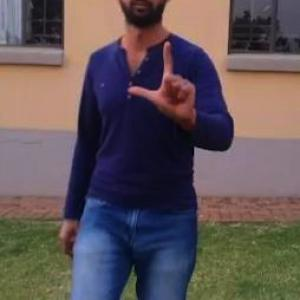land_hand: (123, 33, 202, 126)
